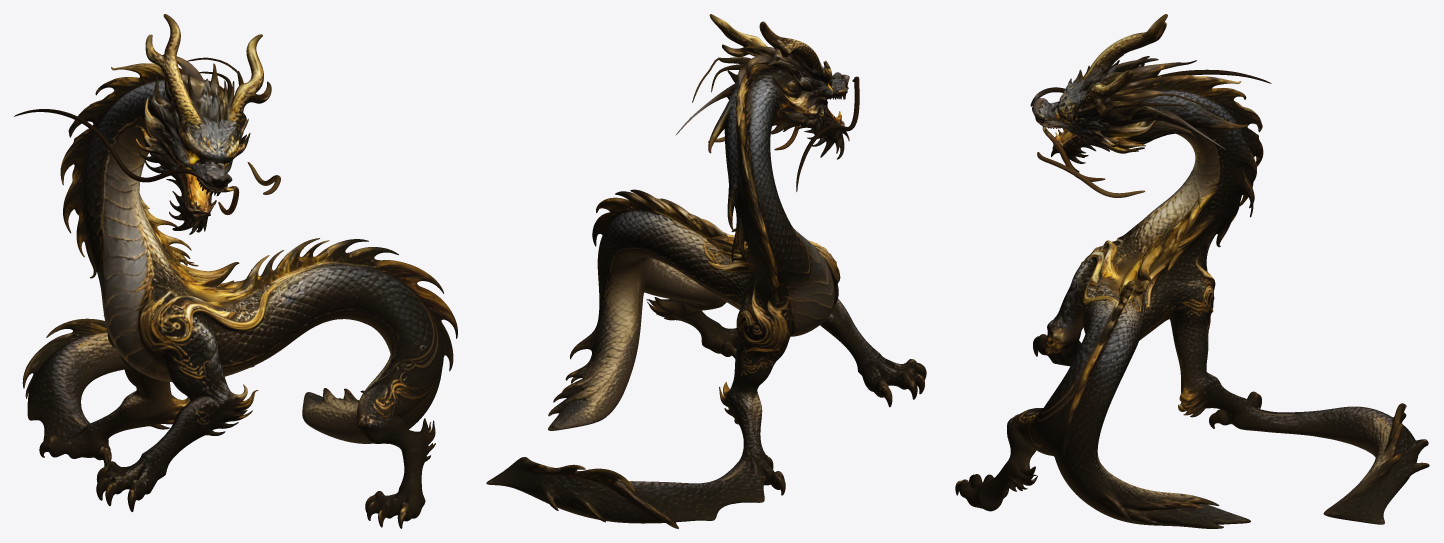
The model's file is jiao-long.glb.
3 renders of one model, left to right at view 1: azimuth 30°, elevation 25°; view 2: azimuth 150°, elevation 25°; view 3: azimuth 270°, elevation 25°, orthographic. The views are drawn at different scales.
Parts seen in each view (by area): view 1: node_0; view 2: node_0; view 3: node_0.
Boxes of the visible parts, x1,y1,x2,y2 form: node_0: [14, 14, 457, 528]; node_0: [486, 14, 926, 528]; node_0: [955, 14, 1429, 528].
Bounding box in the file's own units: 0.6764 × 0.8432 × 0.8425.
1 material, 1 textured.
